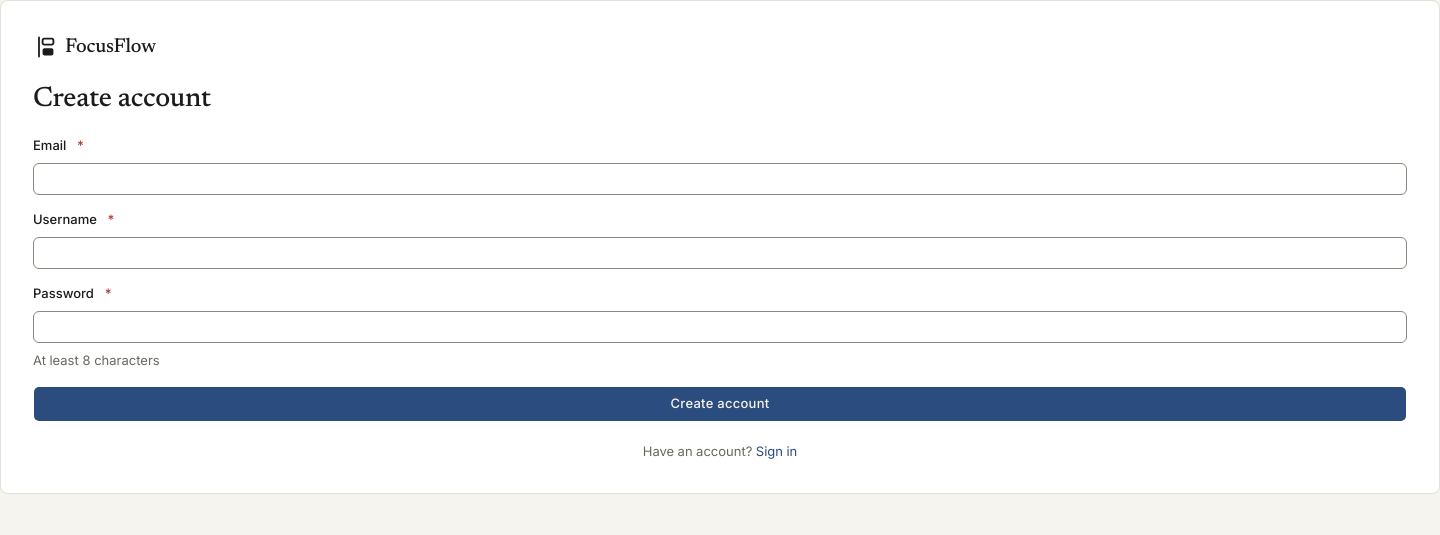
Scenario: RegisterForm › rejects a username outside 3 to 30 characters
Type "new@example.com" into the field labelled "Email *" at (720, 179), box [33,163,1407,195]
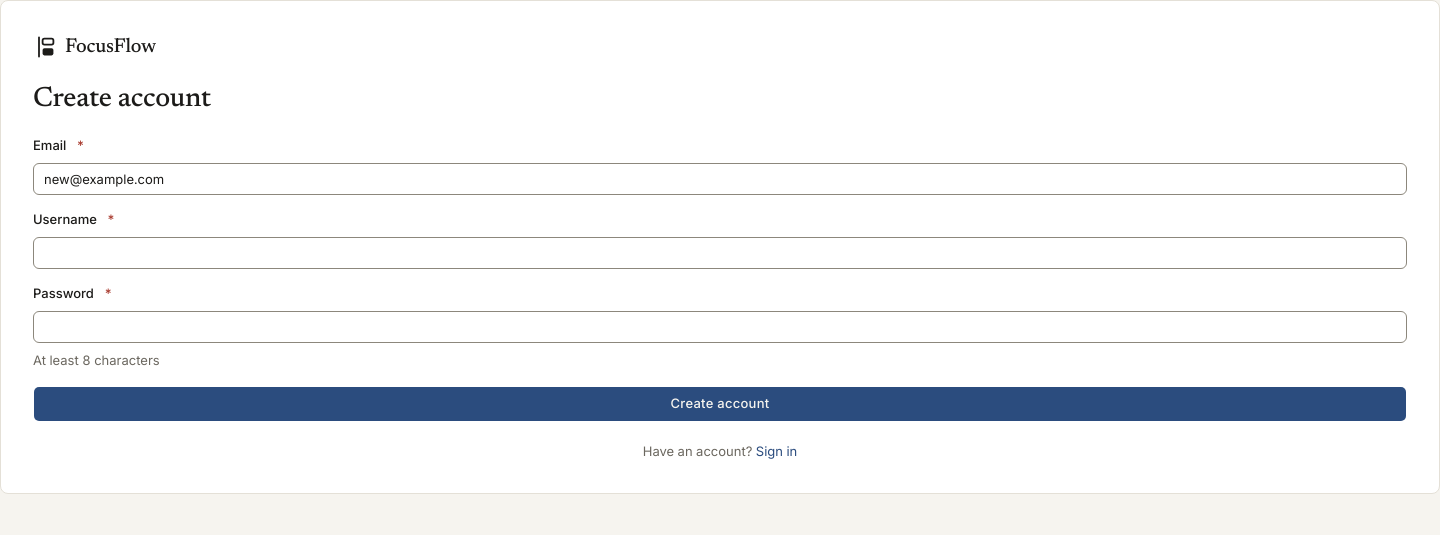
Type "ab" into the field labelled "Username *" at (720, 253), box [33,237,1407,269]
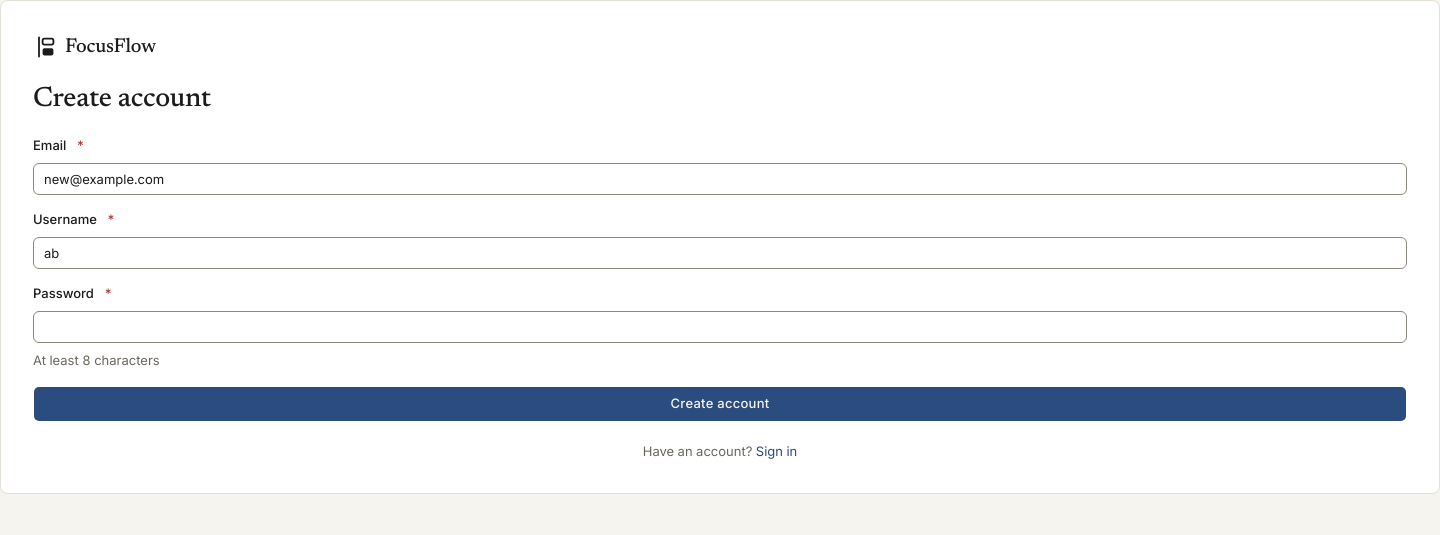
Type "password123" into the password field labelled "Password *" at (720, 327), box [33,311,1407,343]
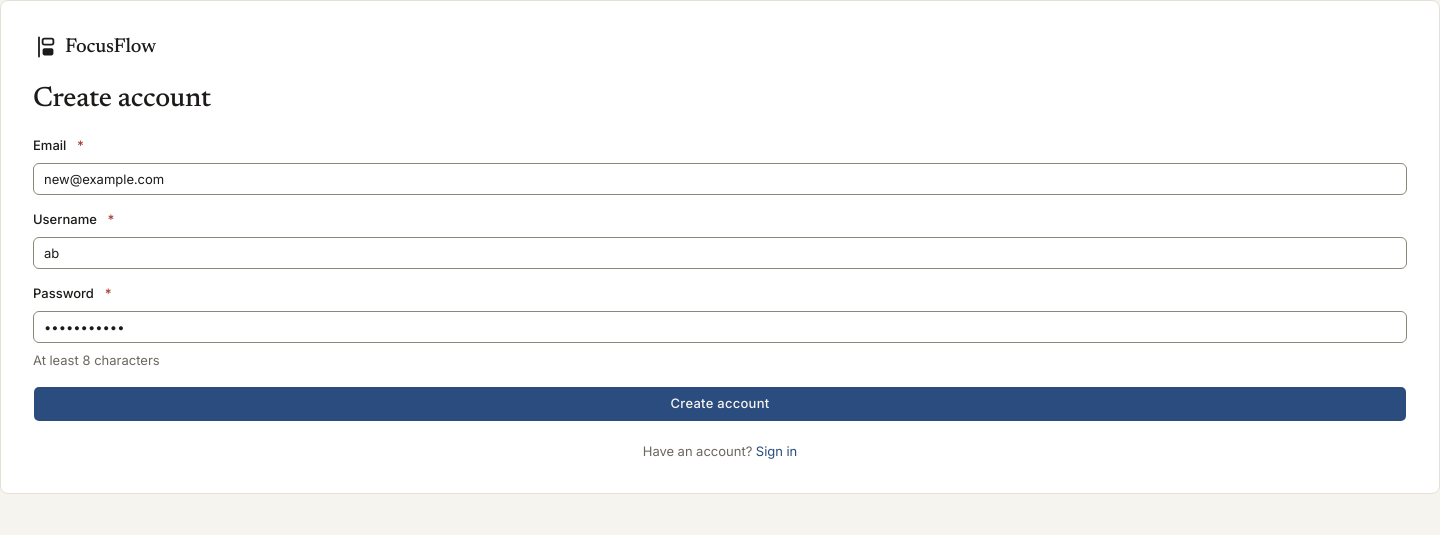
Submit the form, box [33,137,1407,422]
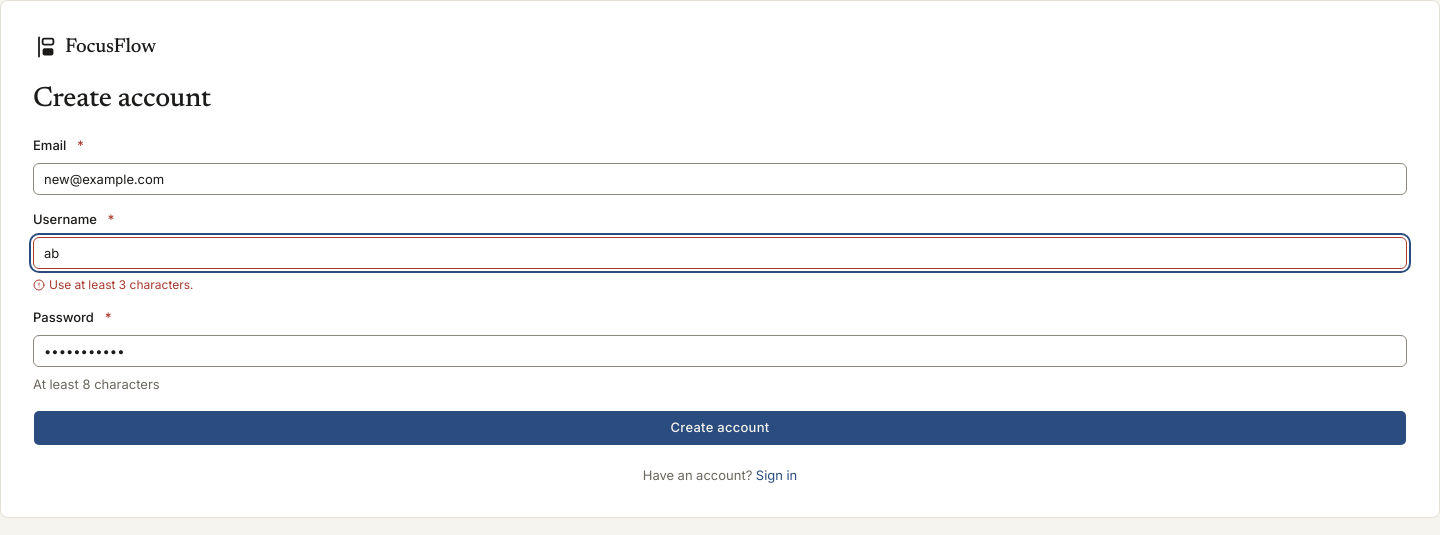
Now the text "Use at least 3 characters." is shown, box [49,277,193,293]
